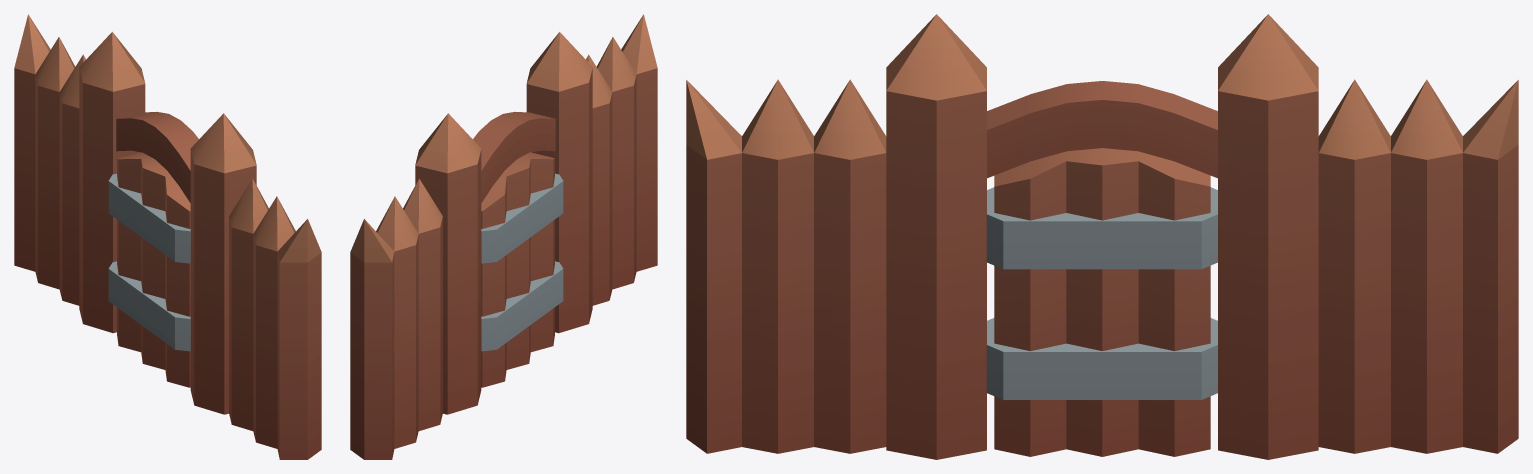
File: kaykit-medieval-hexagon-pack-fence-wood-straight-gate.glb
3 renders of one model, left to right at view 1: azimuth 30°, elevation 25°; view 2: azimuth 150°, elevation 25°; view 3: azimuth 270°, elevation 25°, orthographic. The views are drawn at different scales.
Parts seen in each view (by area): view 1: fence_wood_straight_gate, fence_wood_straight_door; view 2: fence_wood_straight_gate, fence_wood_straight_door; view 3: fence_wood_straight_gate, fence_wood_straight_door.
Part boxes in pixels (x1,y1,x2,y2): fence_wood_straight_gate: [14, 14, 321, 459]; fence_wood_straight_door: [108, 152, 190, 387]; fence_wood_straight_gate: [350, 14, 657, 459]; fence_wood_straight_door: [481, 152, 563, 387]; fence_wood_straight_gate: [686, 14, 1518, 459]; fence_wood_straight_door: [986, 148, 1217, 456].
Bounding box in the file's own units: 0.14 × 0.65 × 1.15.
Materials: 1 (1 with a texture image).
